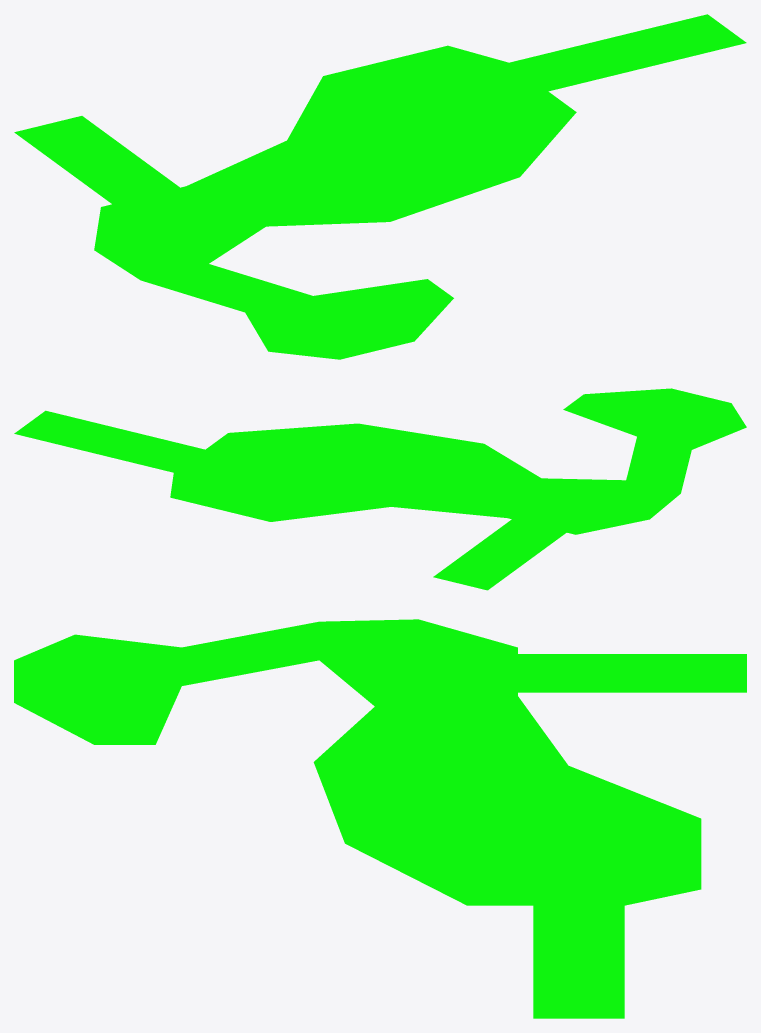
The model's file is s01b_lb3-floor.glb.
3 renders of one model, top to bottom at view 1: azimuth 30°, elevation 25°; view 2: azimuth 150°, elevation 25°; view 3: azimuth 270°, elevation 25°, orthographic. The views are drawn at different scales.
Visible parts, largest first — view 1: collision_floor-colonly; view 2: collision_floor-colonly; view 3: collision_floor-colonly.
Boxes of the visible parts, left/top/right/bottom form: collision_floor-colonly: left=14, top=14, right=746, bottom=359; collision_floor-colonly: left=14, top=388, right=746, bottom=590; collision_floor-colonly: left=14, top=619, right=746, bottom=1018.
Size of the model in its own units: 61.85 by 0 by 47.99.
